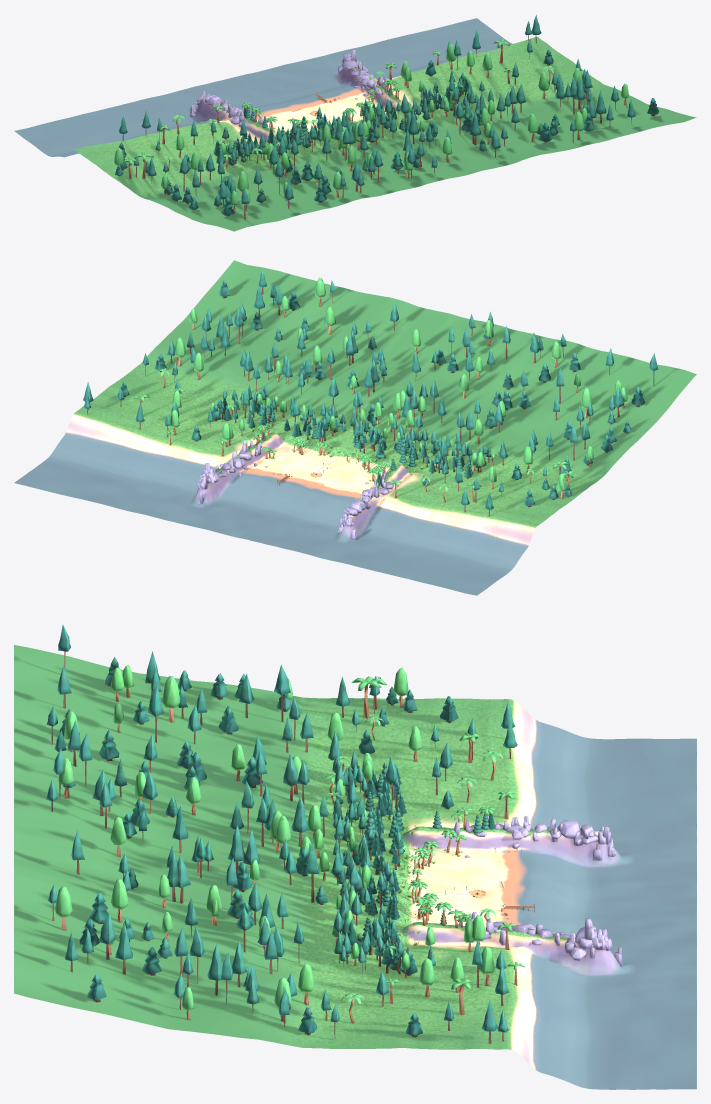
File: beach.glb
3 views of the same model, one above another, from view 1: azimuth 30°, elevation 25°; view 2: azimuth 150°, elevation 25°; view 3: azimuth 270°, elevation 25° (orthographic). The views are drawn at different scales.
Visible parts, largest first — view 1: terrain_far, veg_far, terrain_core, veg_near, rocks; view 2: terrain_far, veg_far, terrain_core, veg_near, rocks; view 3: terrain_far, veg_far, terrain_core, veg_near, rocks.
Part boxes in pixels (x1=…): terrain_far: x1=14, y1=18, x2=696, y2=231; veg_far: x1=114, y1=15, x2=658, y2=219; terrain_core: x1=223, y1=76, x2=412, y2=144; veg_near: x1=213, y1=71, x2=467, y2=157; rocks: x1=189, y1=50, x2=387, y2=127; terrain_far: x1=14, y1=260, x2=696, y2=595; veg_far: x1=83, y1=269, x2=658, y2=516; terrain_core: x1=225, y1=429, x2=418, y2=503; veg_near: x1=217, y1=395, x2=481, y2=485; rocks: x1=198, y1=439, x2=393, y2=540; terrain_far: x1=14, y1=645, x2=696, y2=1089; veg_far: x1=46, y1=625, x2=524, y2=1043; terrain_core: x1=394, y1=826, x2=530, y2=947; veg_near: x1=362, y1=759, x2=495, y2=974; rocks: x1=428, y1=816, x2=622, y2=966.
Size of the model in its own units: 340 by 62.23 by 280.
8 materials, 7 textured.
